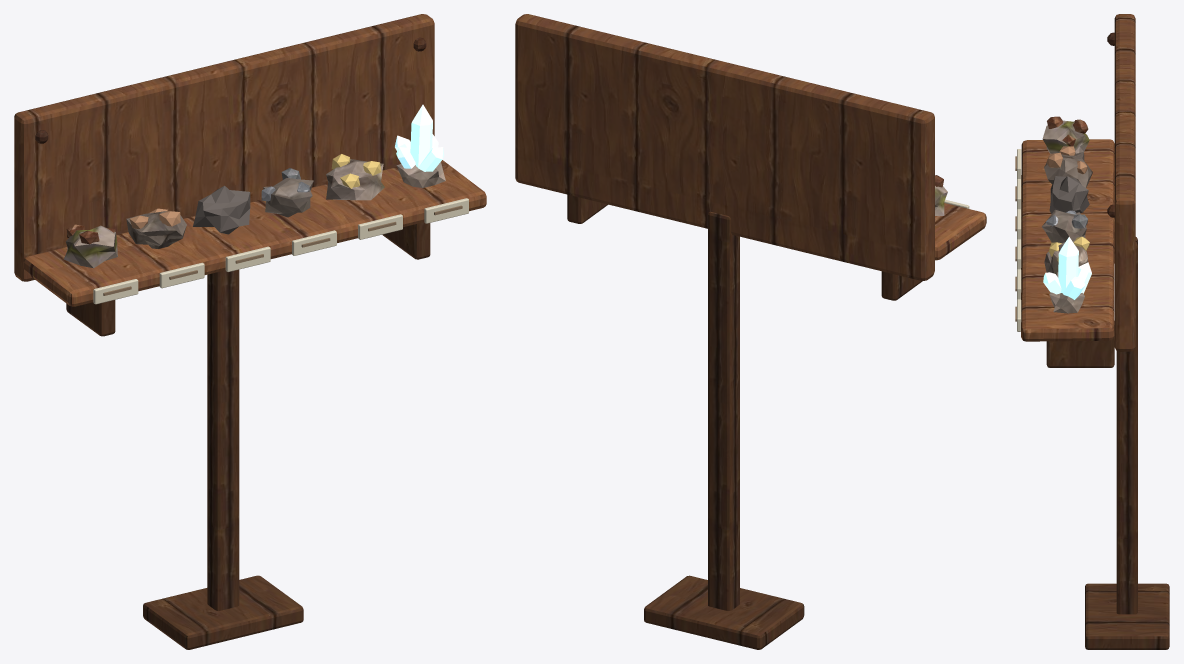
Rendered from ore_sample_shelf.glb.
3 views of the same model, side by side, from view 1: azimuth 30°, elevation 25°; view 2: azimuth 150°, elevation 25°; view 3: azimuth 270°, elevation 25° (orthographic). The views are drawn at different scales.
Visible parts, largest first — view 1: model; view 2: model; view 3: model.
Boxes of the visible parts, x1,y1,x2,y2 form: model: (14, 14, 486, 649); model: (515, 14, 986, 649); model: (1015, 14, 1169, 649).
Bounding box in the file's own units: 1.06 × 1.35 × 0.364.
Materials: 14 (8 with a texture image).
